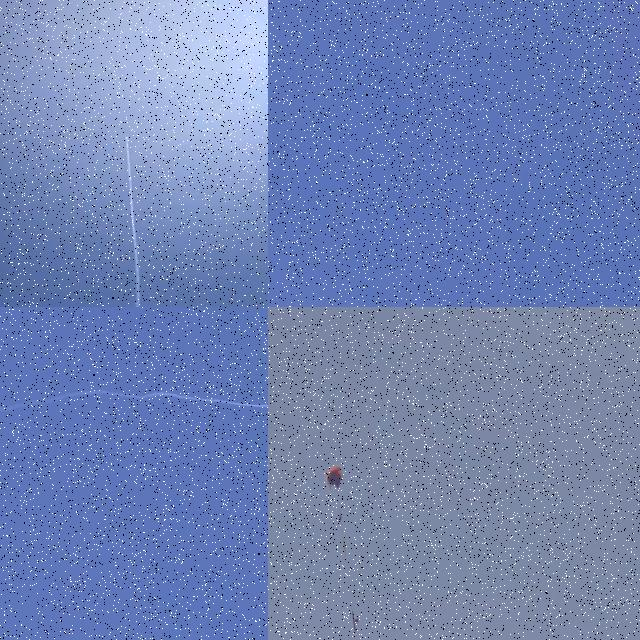Rocket: (125, 136, 128, 138)
